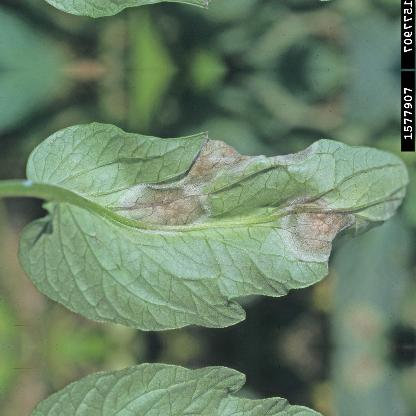Late-Blight: (17, 105, 375, 335), (17, 357, 375, 416)
